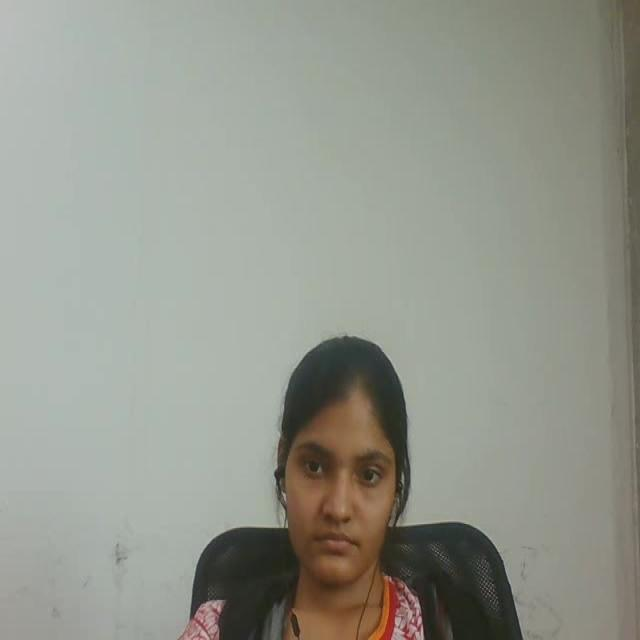Engaged: (246, 307, 413, 621)
